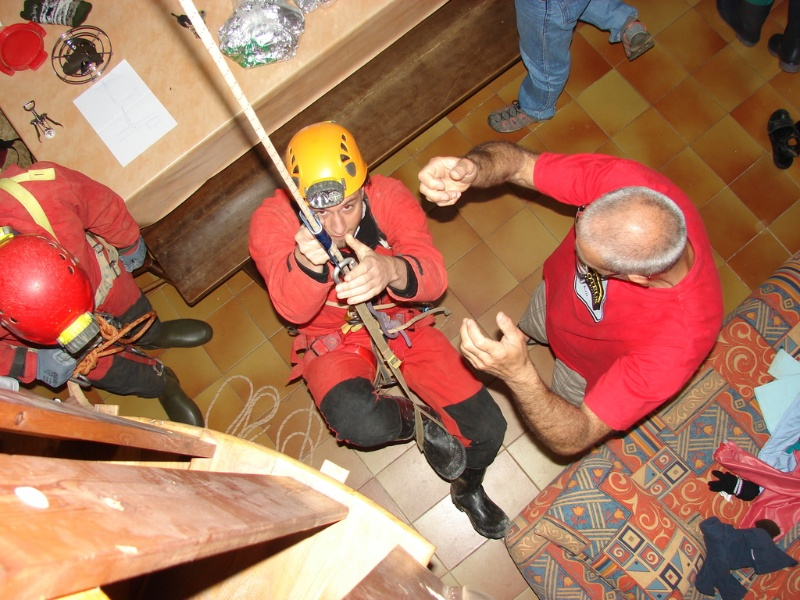helmet: (4, 230, 96, 346), (283, 121, 368, 204)
jacket: (245, 192, 446, 328), (2, 161, 143, 249)
